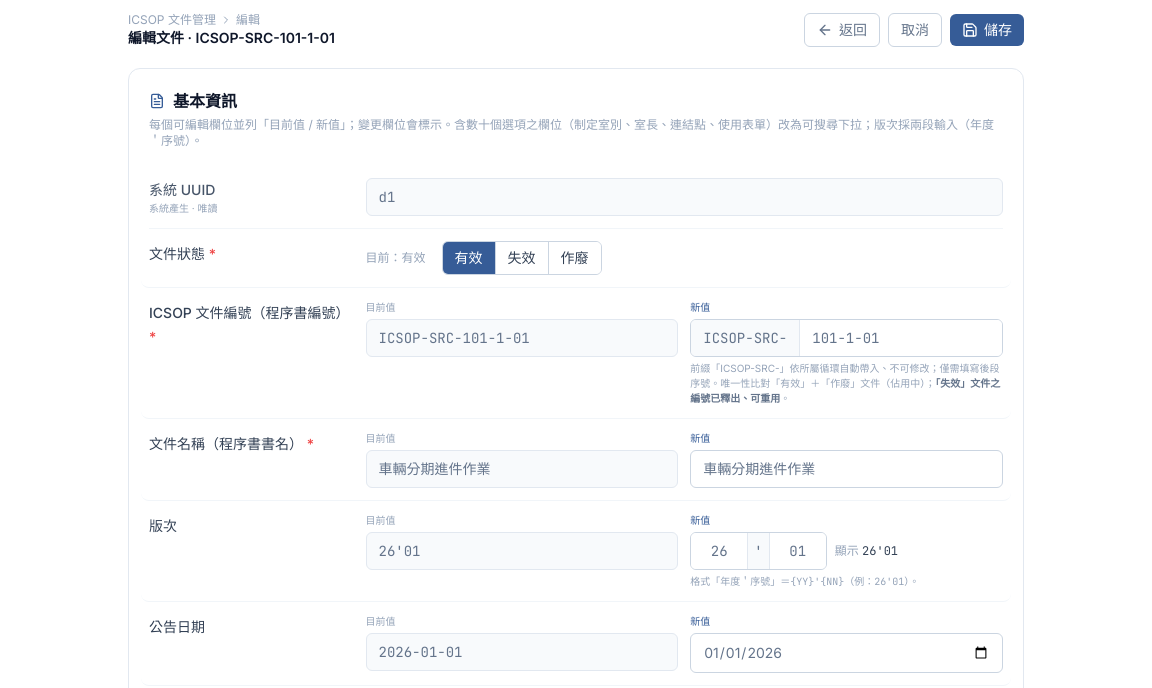
Test case: F011 AC-D2～AC-D5：版次輸入互動（編輯頁） › TS-F011-D3-001 序號框值為 "1" → blur **之前**維持 "1"、blur **之後**為 "01"
Clear the field named "版次序號": coordinates (798, 551) [770,533,826,569]
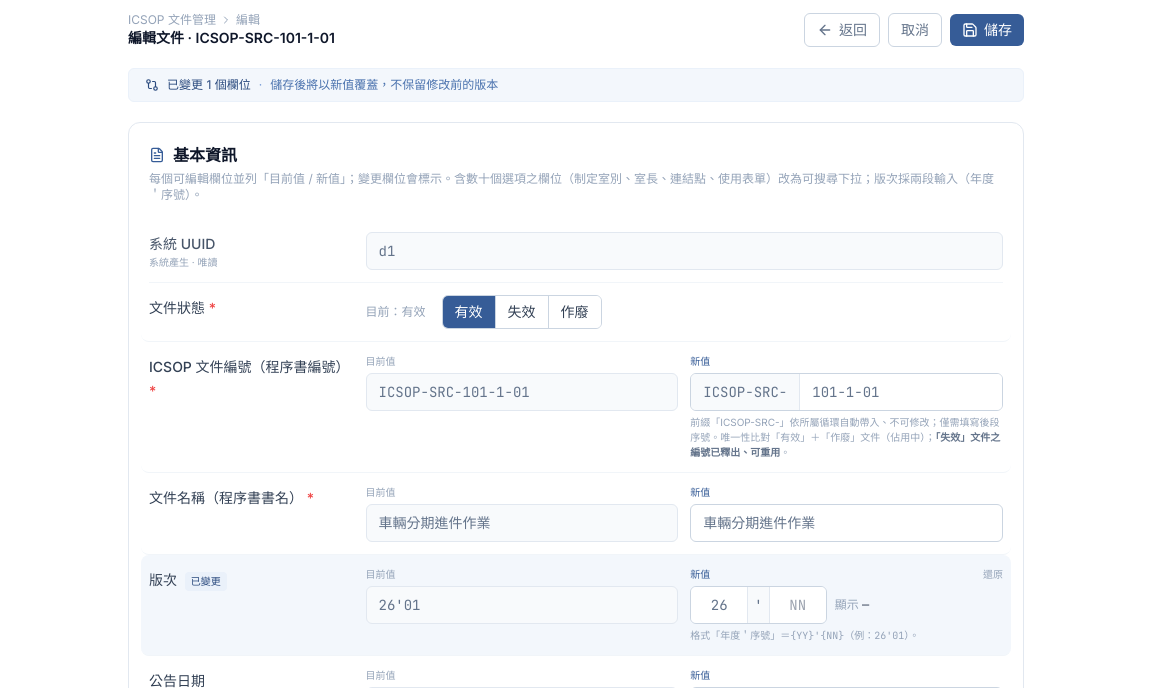
In the field named "版次序號": coordinates (798, 605) [770,587,826,623], type "1"
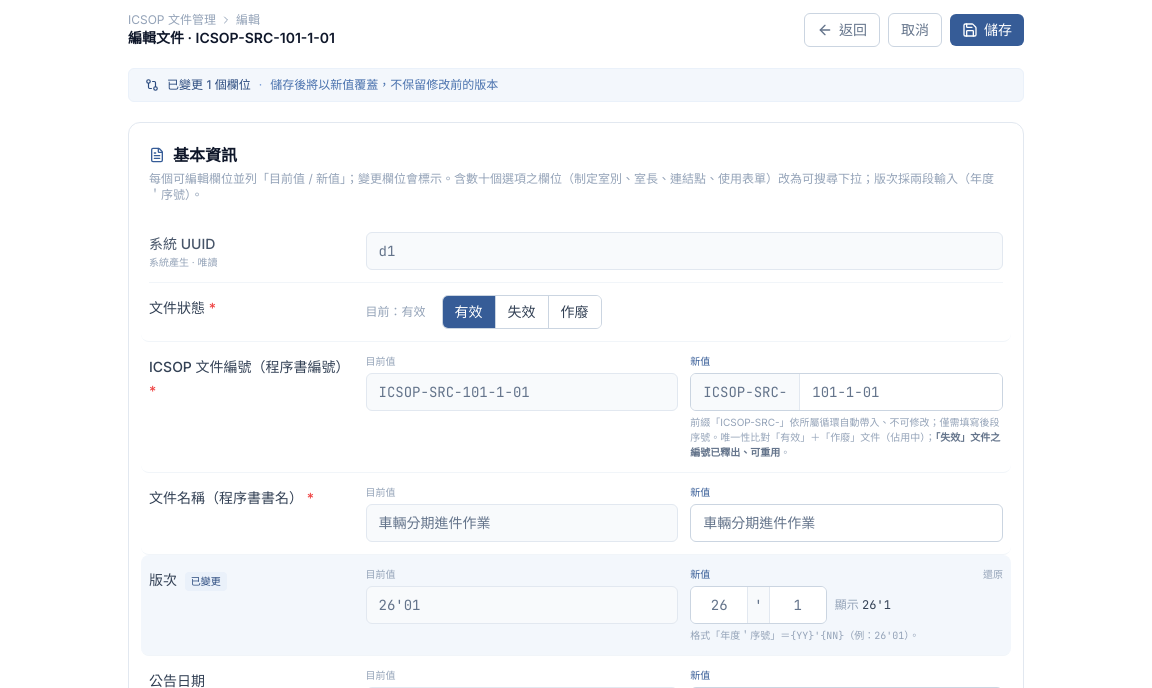
Press Tab
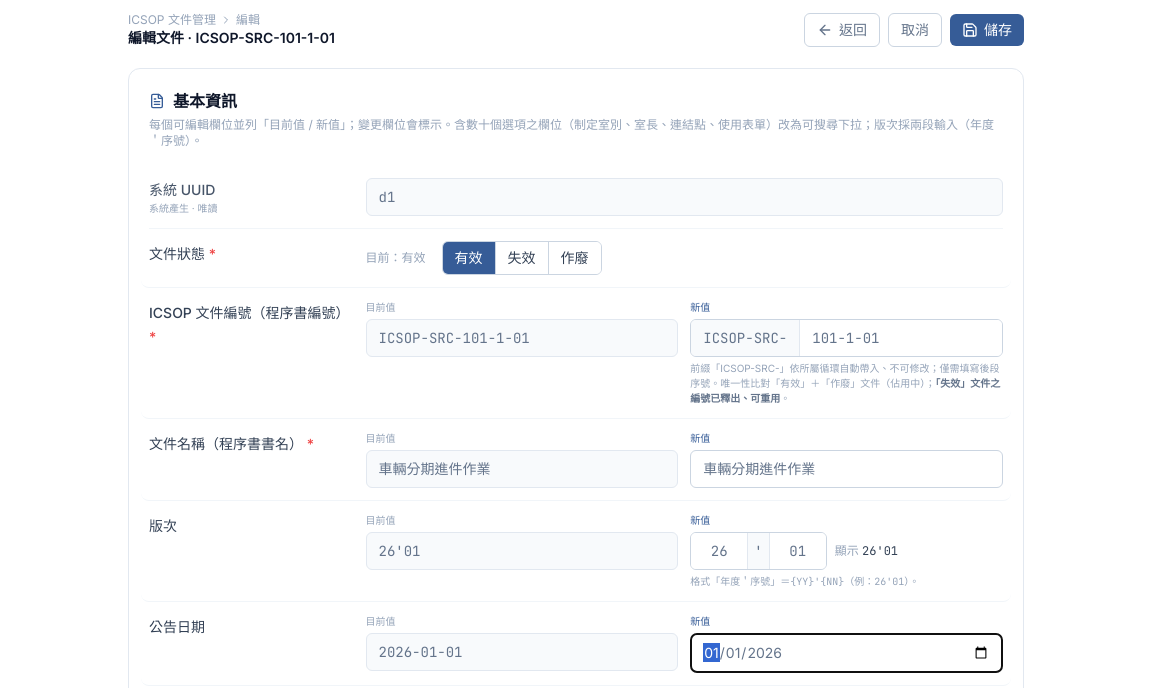
Check: the field named "版次序號" holds "01", box [770,533,826,569]
